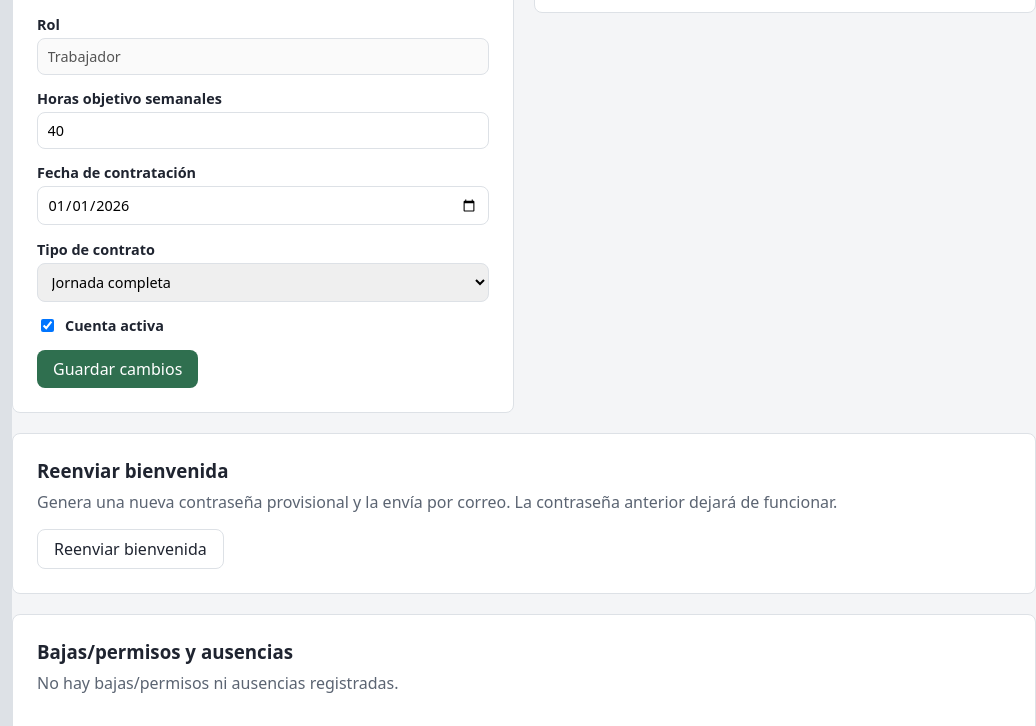
Test case: AdminUserDetail › muestra un error si falla el guardado
(page scrolled)
Click the button "Guardar cambios" at (118, 368), box [37, 350, 198, 388]
(page scrolled)
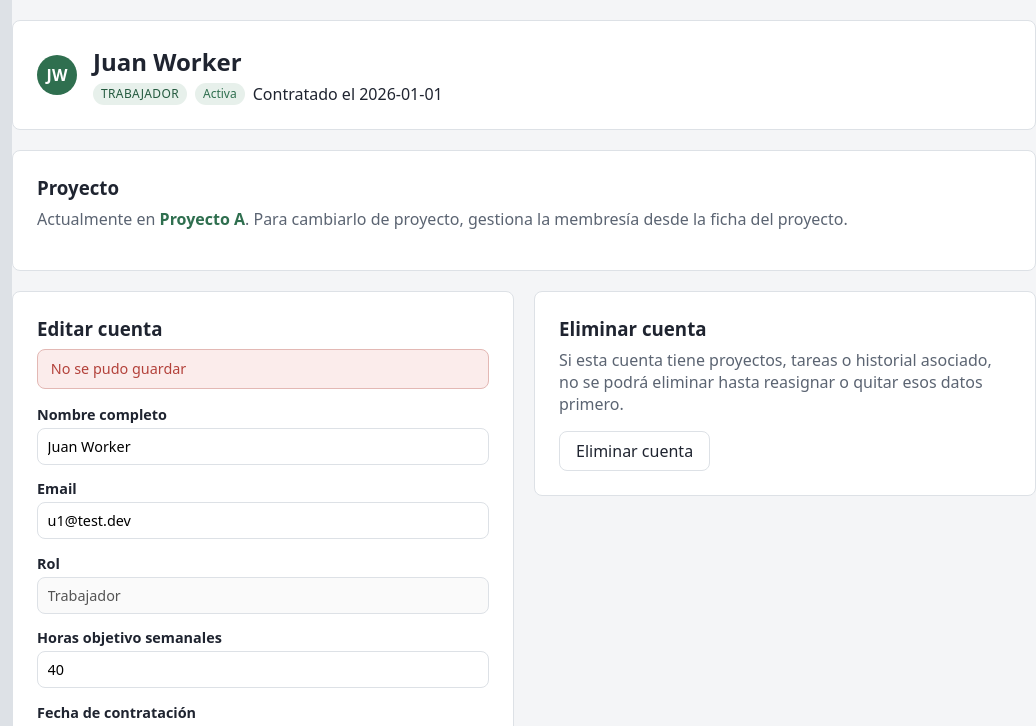
Expected: the text "No se pudo guardar" is shown, [37, 349, 489, 389]
